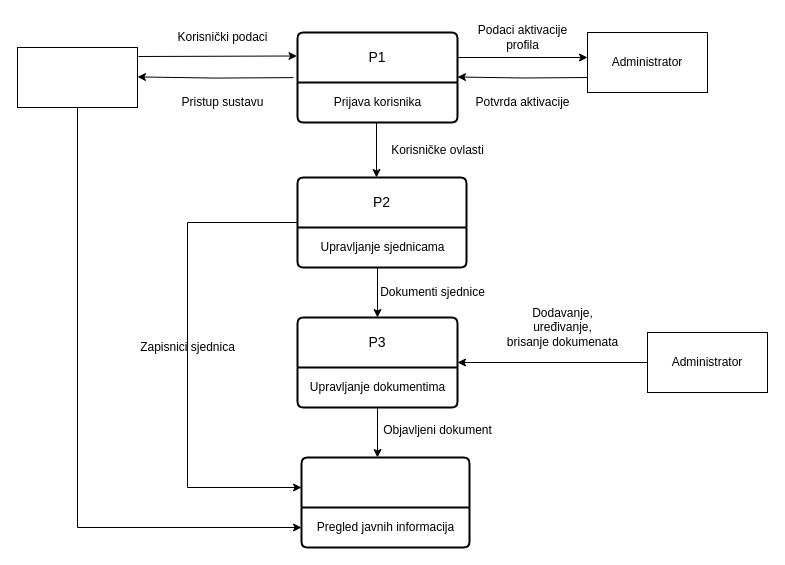
The diagram is 785 pixels wide and 565 high, and some of its shapes have lost their labels. The box of each missing label's shape, as (x1, y1, x2, y2) in pixels:
Korisnik: (16, 46, 138, 108)
P4: (300, 456, 470, 548)
